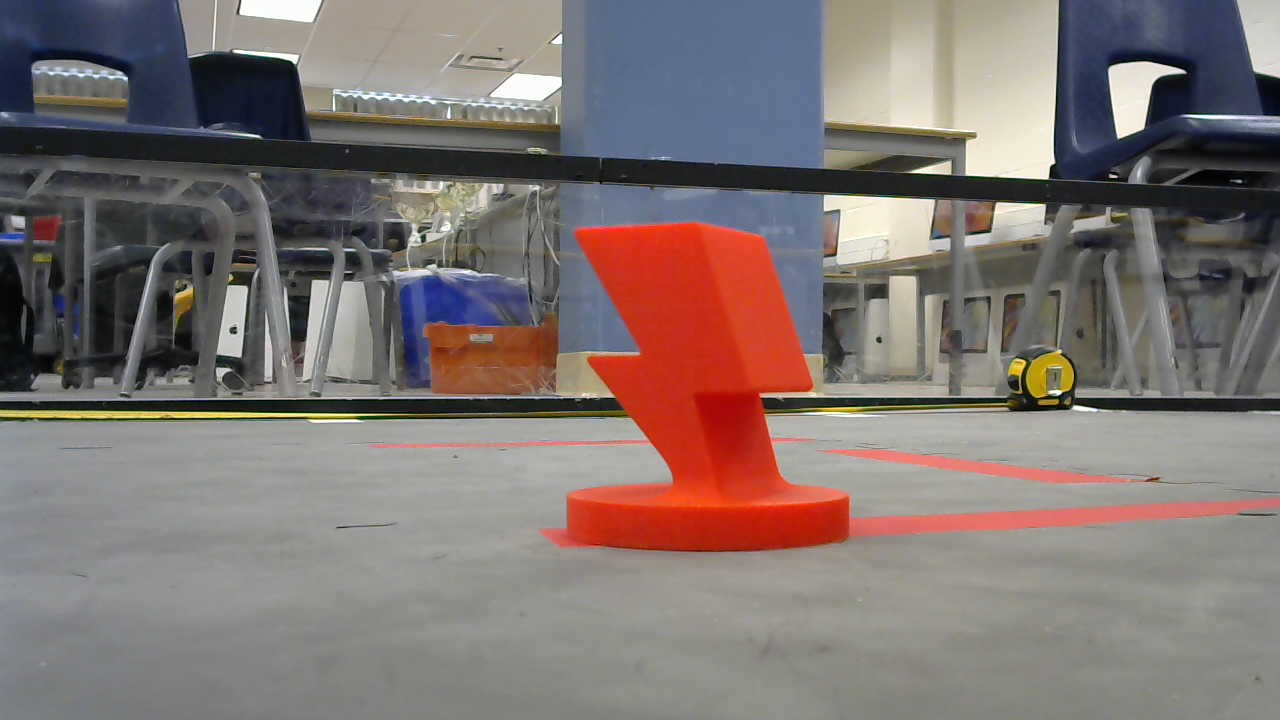redobject: (553, 219, 854, 554)
